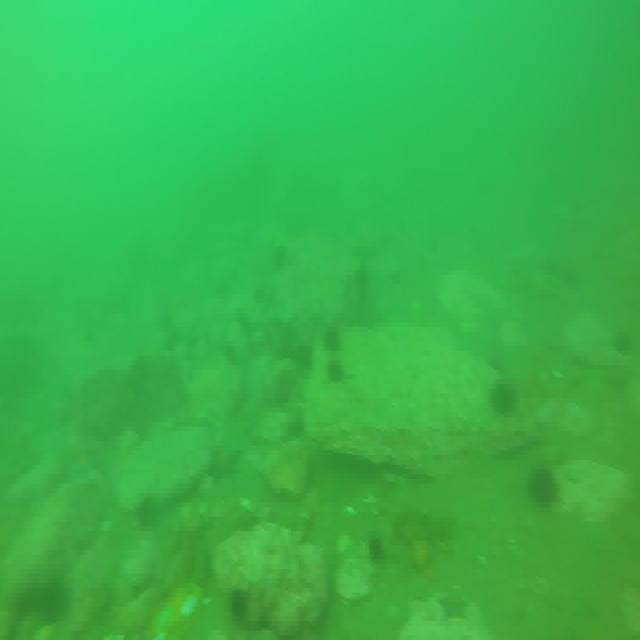echinus: (533, 464, 560, 507), (492, 376, 518, 417), (613, 326, 636, 359), (134, 494, 156, 528), (370, 529, 386, 561), (328, 359, 344, 384), (323, 331, 337, 355)
